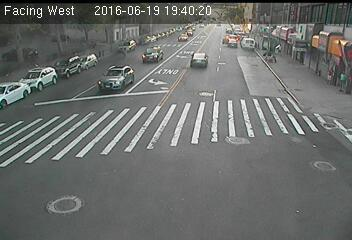neg: (248, 113, 286, 163), (293, 39, 324, 80), (307, 154, 337, 195), (162, 44, 186, 76), (89, 163, 113, 195), (122, 116, 145, 147), (210, 61, 233, 91), (65, 132, 88, 162), (174, 125, 196, 155), (86, 66, 108, 95), (204, 192, 225, 221), (150, 188, 171, 215), (253, 58, 273, 84), (52, 99, 72, 125)
